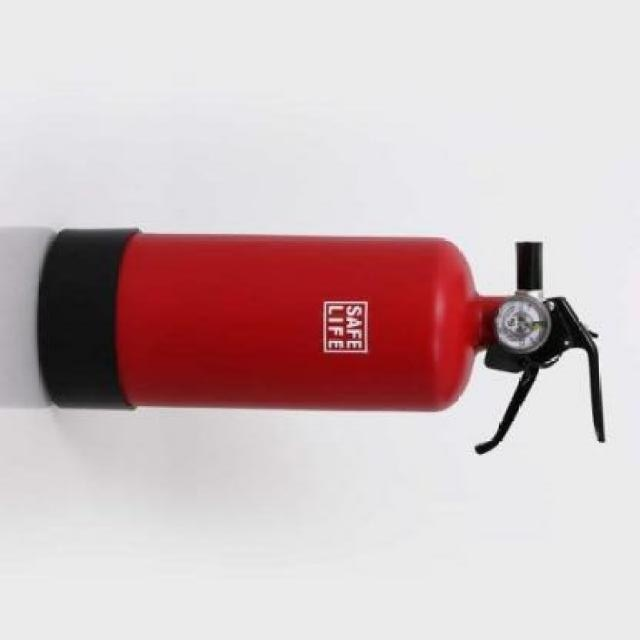fire extinguisher: (39, 229, 605, 455)
